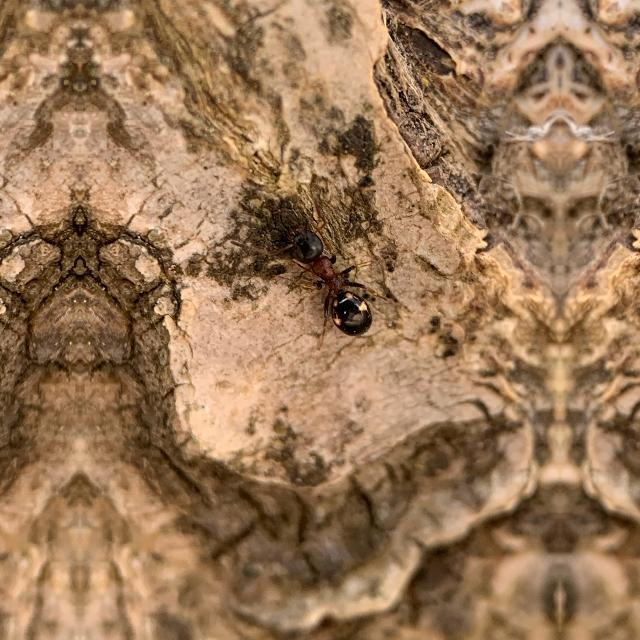Dolichoderus: (280, 203, 396, 353)
